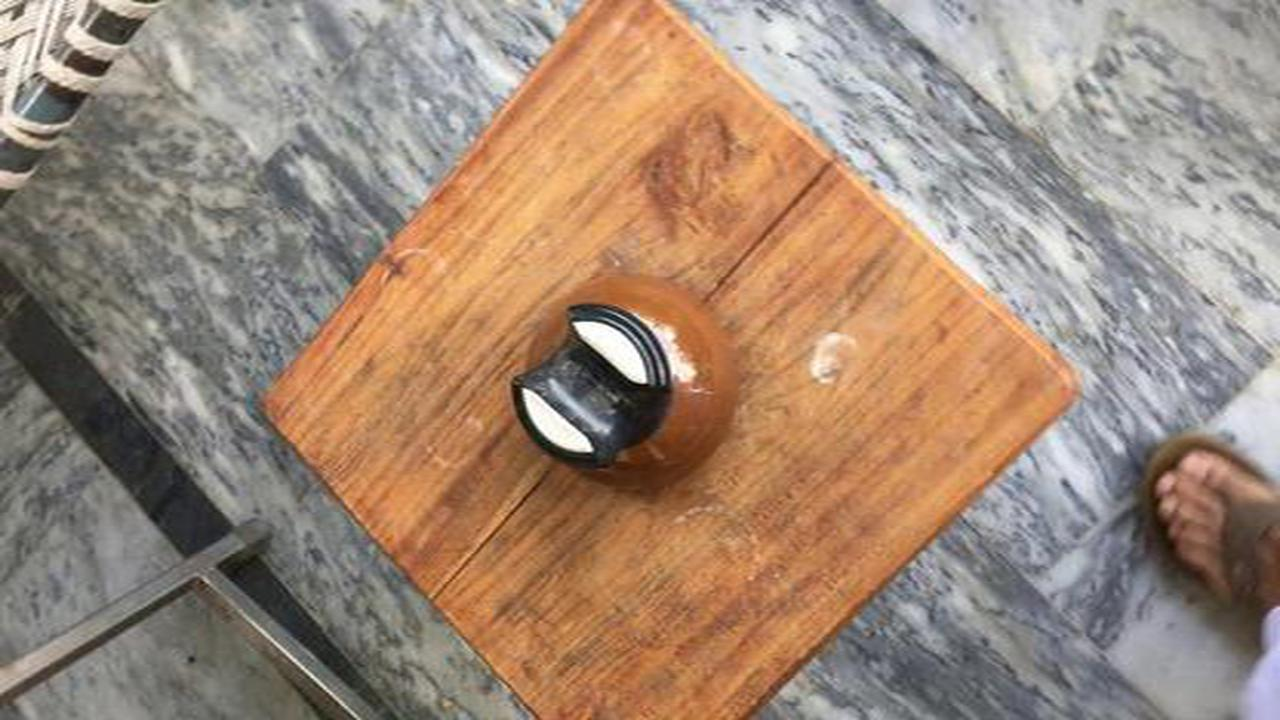insulator_pin: (484, 262, 767, 501)
